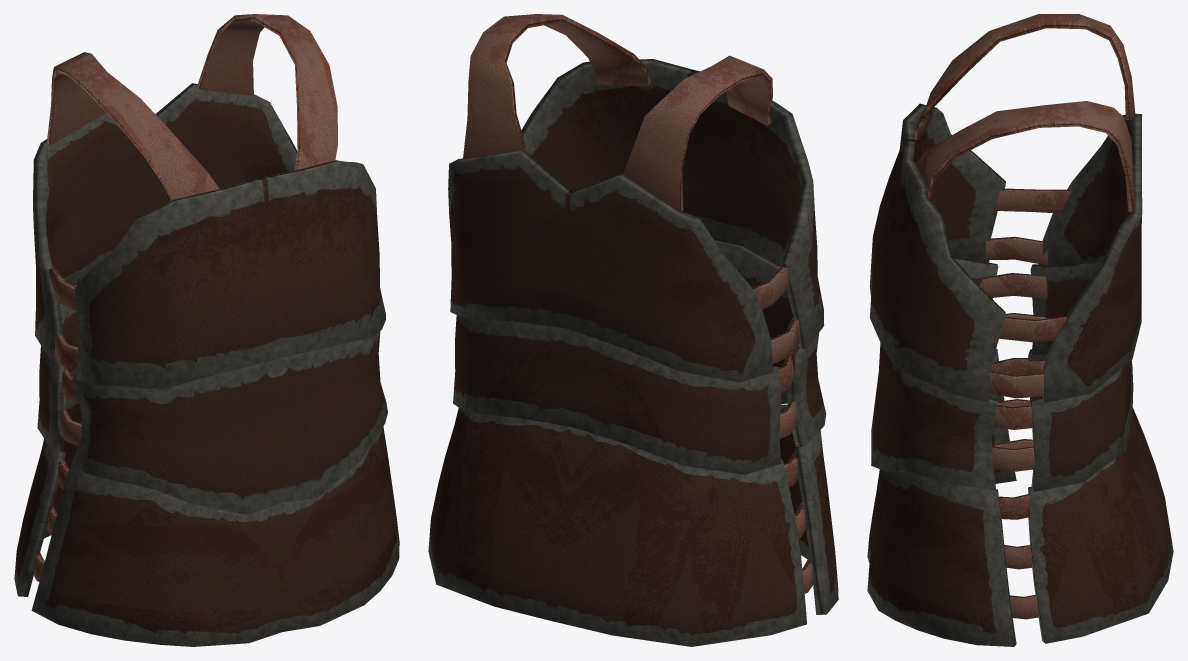
Rendered from hard_leather_armor.glb.
3 renders of one model, left to right at view 1: azimuth 30°, elevation 25°; view 2: azimuth 150°, elevation 25°; view 3: azimuth 270°, elevation 25°, orthographic. The views are drawn at different scales.
Visible parts, largest first — view 1: hard_leather_straps.001; view 2: hard_leather_straps.001; view 3: hard_leather_straps.001.
Part boxes in pixels (bbox=[...]): hard_leather_straps.001: bbox=[14, 14, 399, 646]; hard_leather_straps.001: bbox=[428, 14, 838, 646]; hard_leather_straps.001: bbox=[867, 14, 1173, 646].
Bounding box in the file's own units: 0.3004 × 0.4182 × 0.2263.
Materials: 1 (1 with a texture image).
